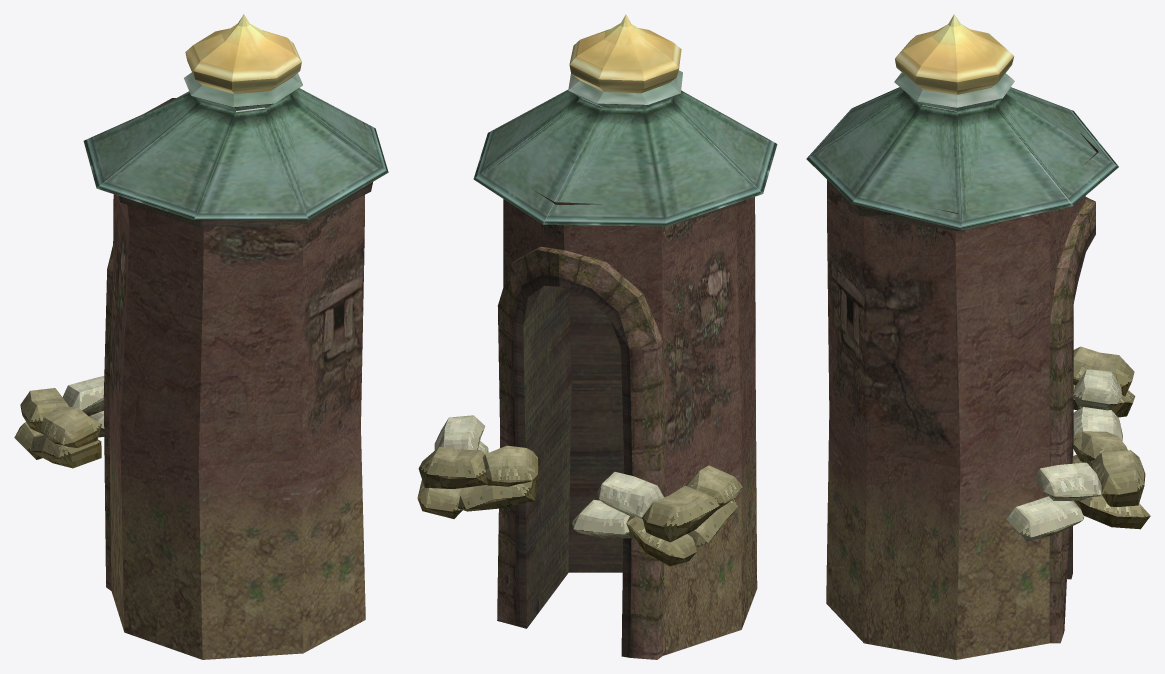
The model's file is C1SMSENTRYBOXH.obj.
3 views of the same model, side by side, from view 1: azimuth 30°, elevation 25°; view 2: azimuth 150°, elevation 25°; view 3: azimuth 270°, elevation 25° (orthographic).
Parts seen in each view (by area): view 1: Node 0; view 2: Node 0; view 3: Node 0.
Boxes of the visible parts, bbox=[...] form: Node 0: bbox=[14, 14, 388, 659]; Node 0: bbox=[417, 14, 777, 659]; Node 0: bbox=[806, 14, 1150, 659].
Size of the model in its own units: 4.54 by 8.47 by 4.47.
6 materials, 6 textured.
